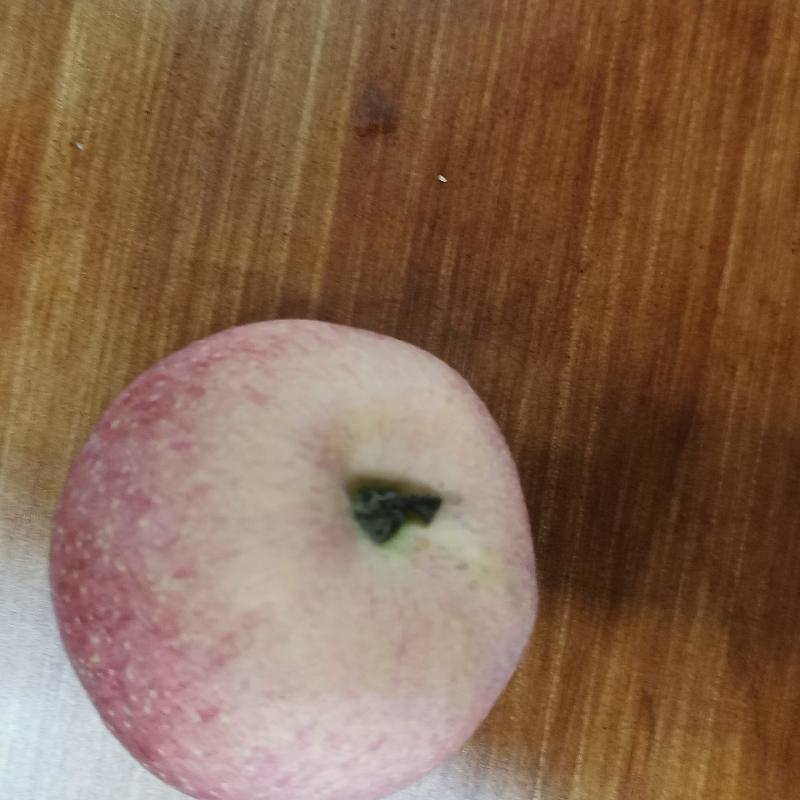apples: (45, 317, 590, 800)
